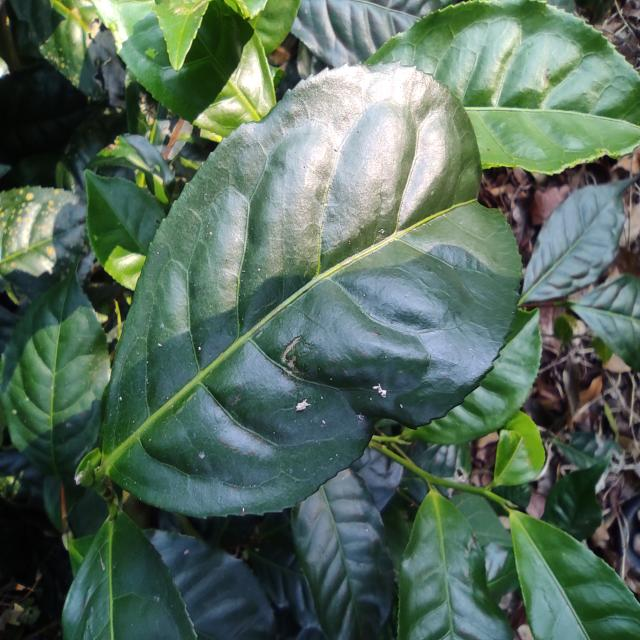Category D 7+ days, Not for Tea: (79, 55, 528, 520)
